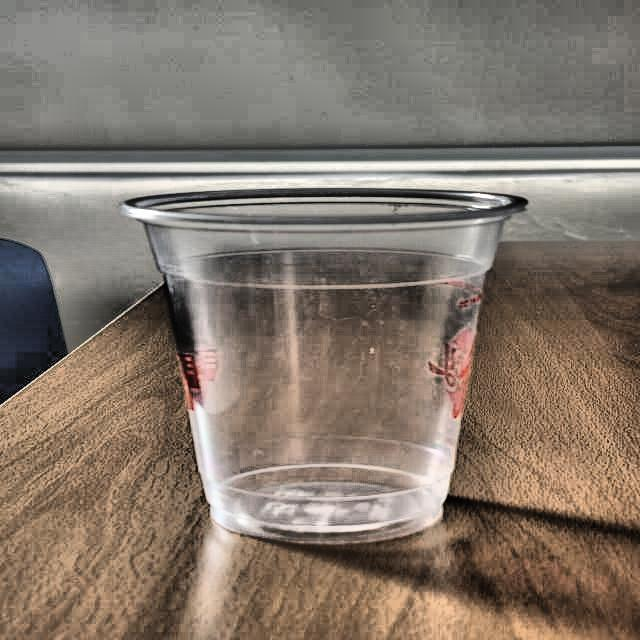plastic cup: (120, 186, 534, 544)
